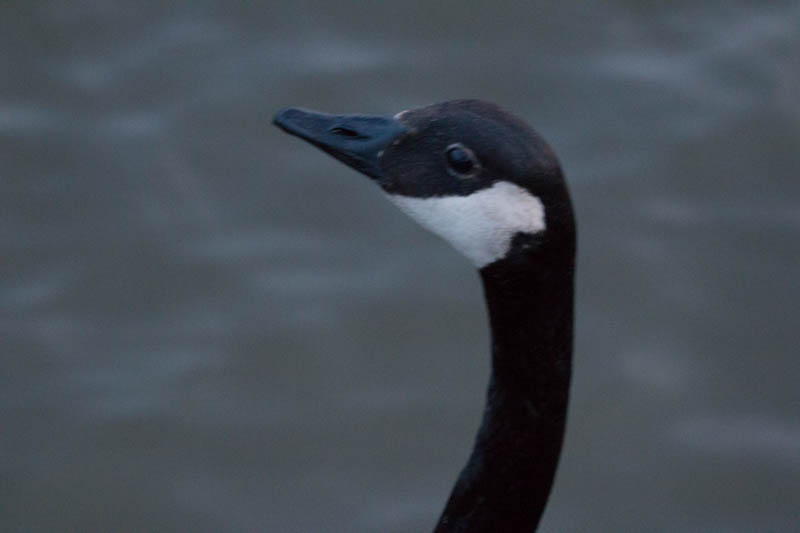goose-head: (269, 97, 577, 275)
